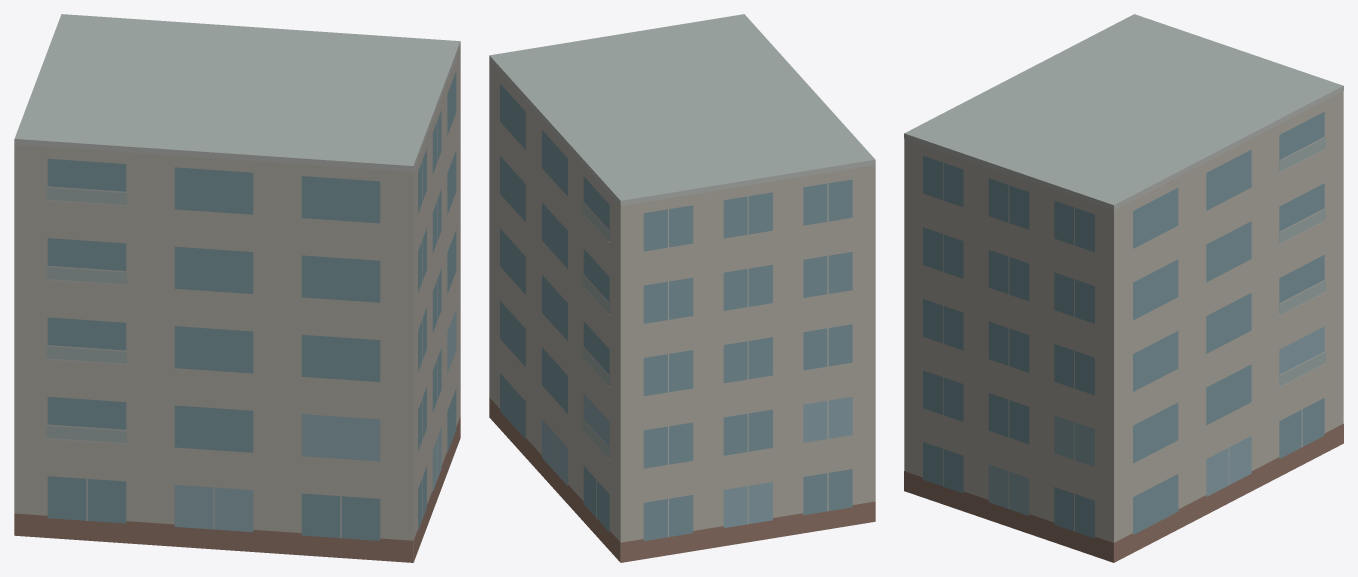
The model's file is survey-upis-32873508.glb.
3 views of the same model, side by side, from view 1: azimuth 30°, elevation 25°; view 2: azimuth 150°, elevation 25°; view 3: azimuth 270°, elevation 25° (orthographic). The views are drawn at different scales.
Visible parts, largest first — view 1: survey-upis-32873508.tmp; view 2: survey-upis-32873508.tmp; view 3: survey-upis-32873508.tmp.
Boxes of the visible parts, x1,y1,x2,y2 form: survey-upis-32873508.tmp: (14, 14, 460, 562); survey-upis-32873508.tmp: (489, 14, 875, 562); survey-upis-32873508.tmp: (904, 14, 1343, 562).
Bounding box in the file's own units: 19.27 × 16.8 × 18.72.
